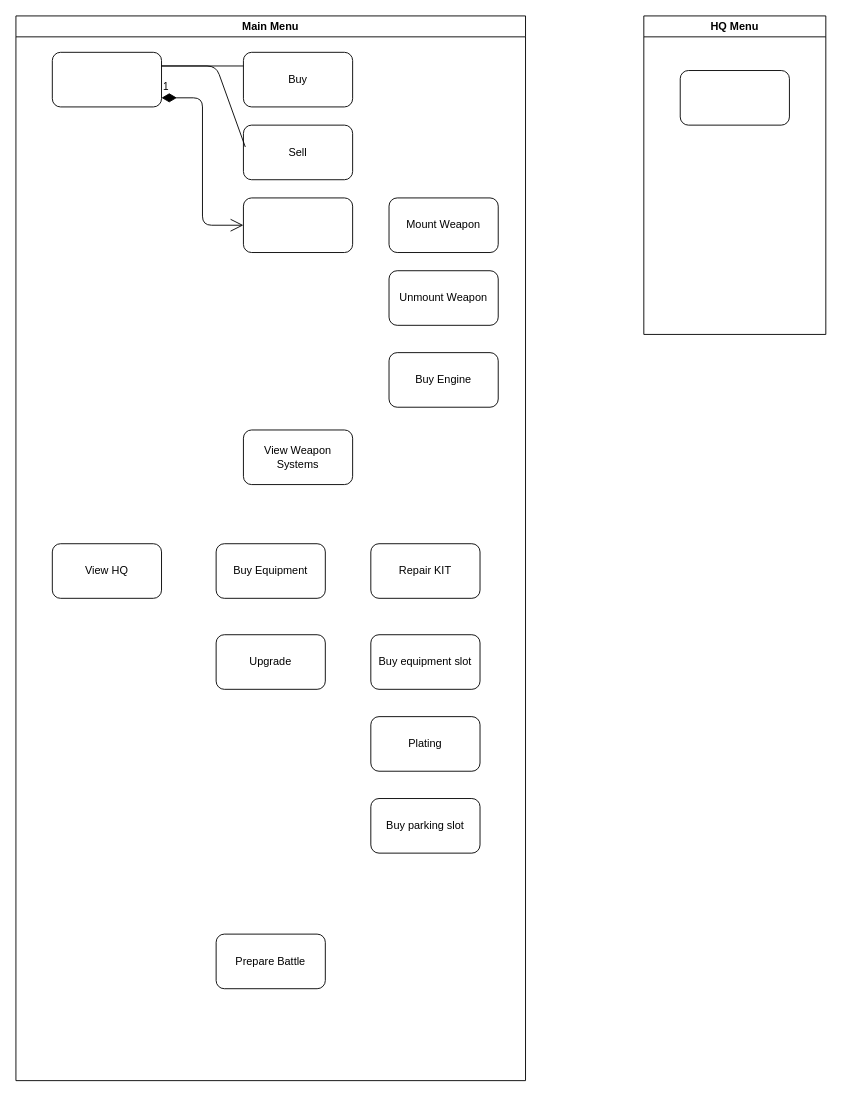
The diagram is 842 pixels wide and 1097 high, and some of its shapes have lost their labels. The shapes that lost their labels are listed below. From the top down, each one's centre as x and y in pixels, then its label:
pixel 106 79: View Tanks
pixel 734 97: Repair
pixel 298 225: Tank
